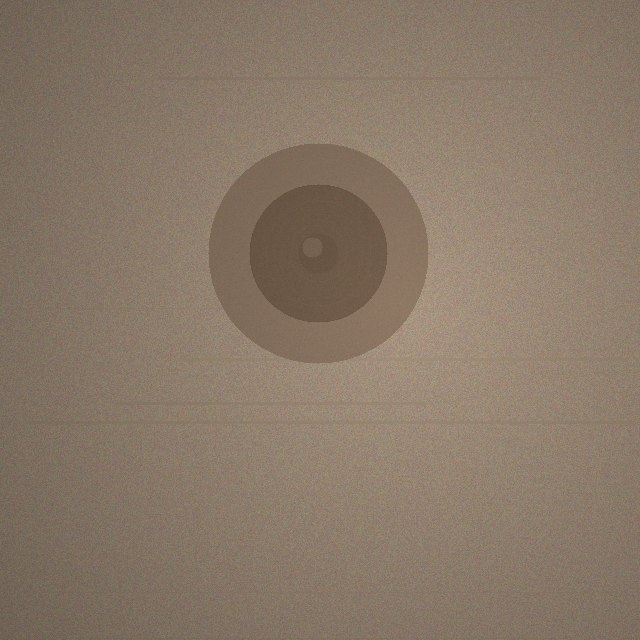good: (208, 143, 428, 363)
